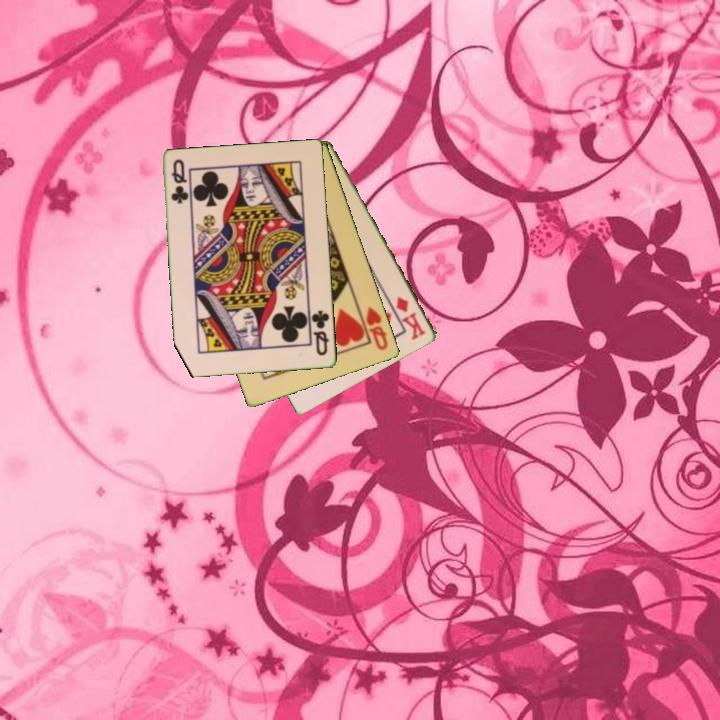Kd: (393, 293, 429, 342)
Qc: (308, 307, 332, 359), (168, 156, 190, 207)
Qh: (363, 303, 391, 353)
